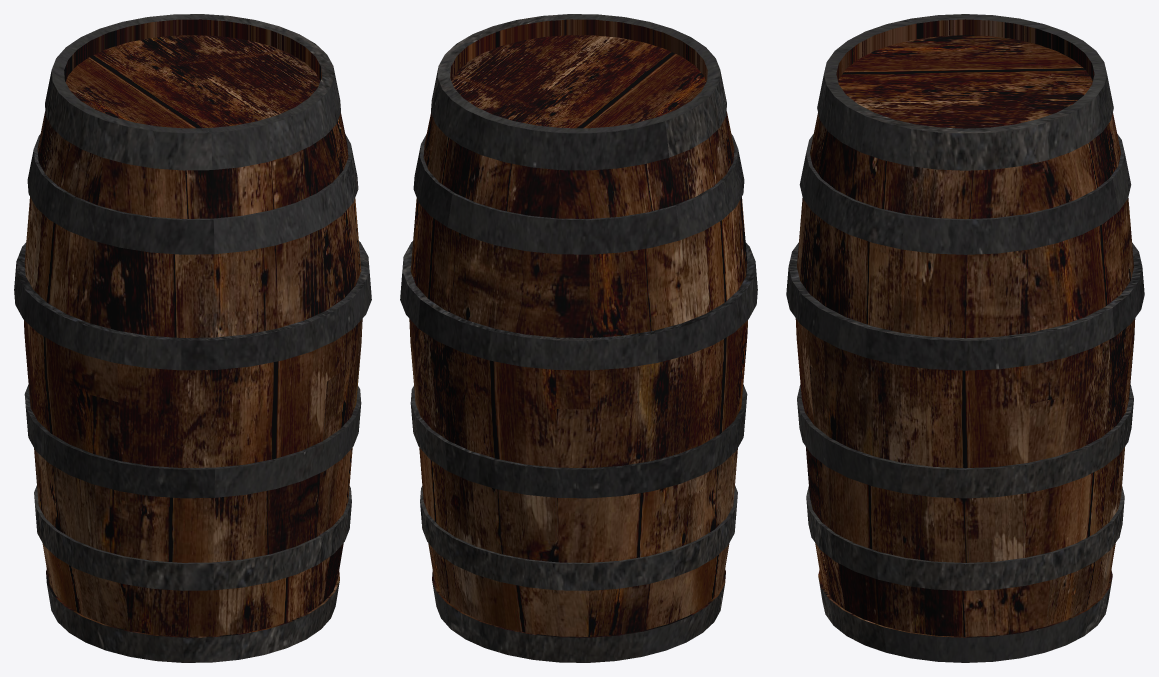
File: barrel.glb
3 views of the same model, side by side, from view 1: azimuth 30°, elevation 25°; view 2: azimuth 150°, elevation 25°; view 3: azimuth 270°, elevation 25° (orthographic).
Visible parts, largest first — view 1: Cylinder; view 2: Cylinder; view 3: Cylinder.
Part boxes in pixels (x1,y1,x2,y2): Cylinder: (14,14,371,662); Cylinder: (400,14,757,662); Cylinder: (786,14,1144,662).
Size of the model in its own units: 2.08 by 3.39 by 2.08.
2 materials, 2 textured.
